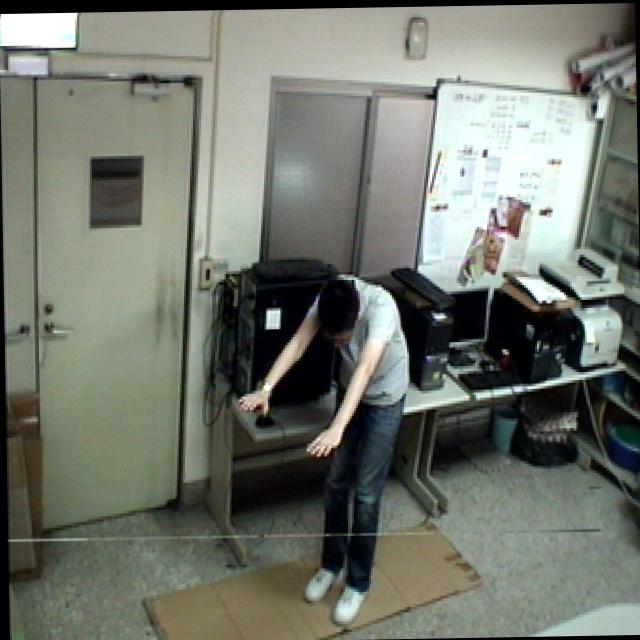bend: (229, 268, 416, 627)
